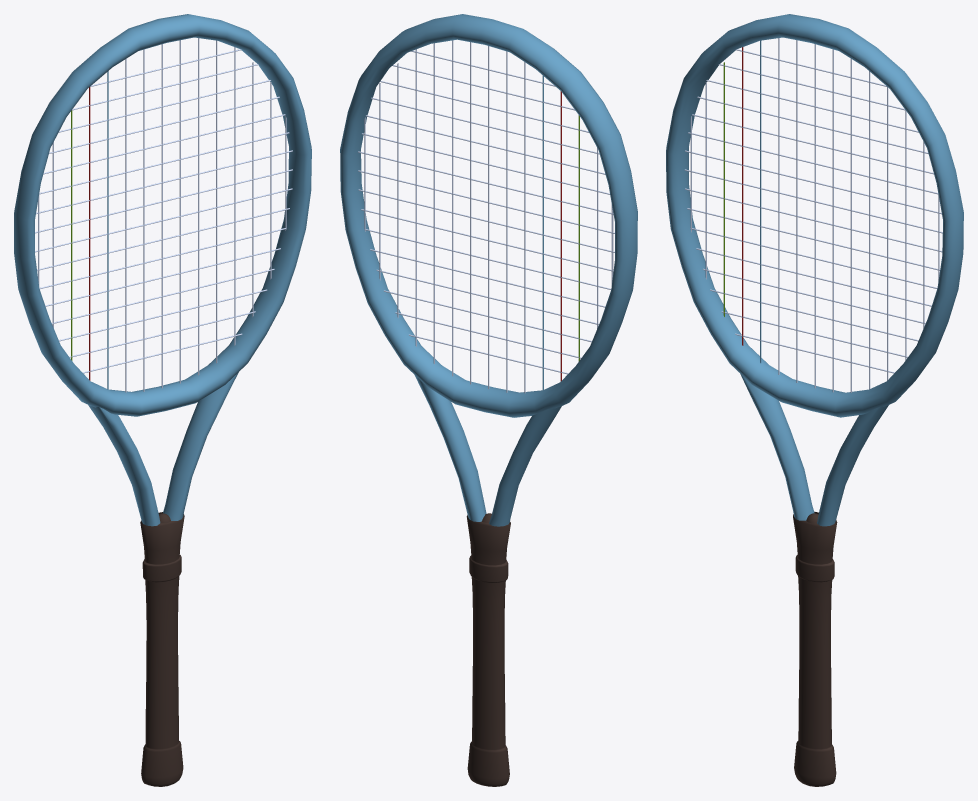
File: raqueta_de_tenis.glb
The picture shows the model from 3 angles, left to right: view 1: azimuth 30°, elevation 25°; view 2: azimuth 150°, elevation 25°; view 3: azimuth 330°, elevation 25°; orthographic projection.
Parts seen in each view (by area): view 1: Object_2; view 2: Object_2; view 3: Object_2.
Boxes of the visible parts, bbox=[...] form: Object_2: bbox=[14, 14, 311, 786]; Object_2: bbox=[340, 14, 637, 786]; Object_2: bbox=[666, 14, 963, 786].
Size of the model in its own units: 8.04 by 20.06 by 0.7705.
1 material, 1 textured.
